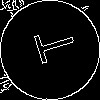T: (25, 25, 78, 68)
